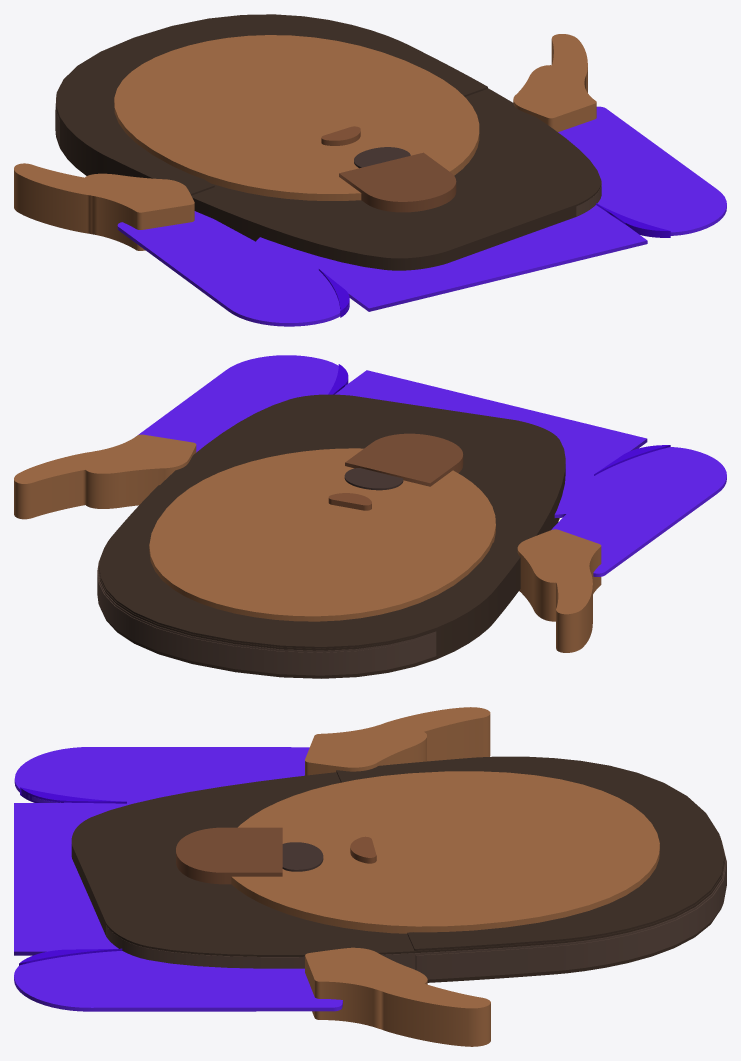
The model's file is emoji_u1f937_1f3fe_200d_2640.glb.
The picture shows the model from 3 angles, top to bottom: view 1: azimuth 30°, elevation 25°; view 2: azimuth 150°, elevation 25°; view 3: azimuth 270°, elevation 25°; orthographic projection. The views are drawn at different scales.
Parts seen in each view (by area): view 1: emoji_u1f937_1f3fe_200d_2640; view 2: emoji_u1f937_1f3fe_200d_2640; view 3: emoji_u1f937_1f3fe_200d_2640.
Boxes of the visible parts, box(x1,y1,x2,y2) form: emoji_u1f937_1f3fe_200d_2640: box(14, 14, 726, 326); emoji_u1f937_1f3fe_200d_2640: box(14, 355, 726, 678); emoji_u1f937_1f3fe_200d_2640: box(14, 707, 726, 1046).
Bounding box in the file's own units: 0.0335 × 0.003 × 0.0337.
